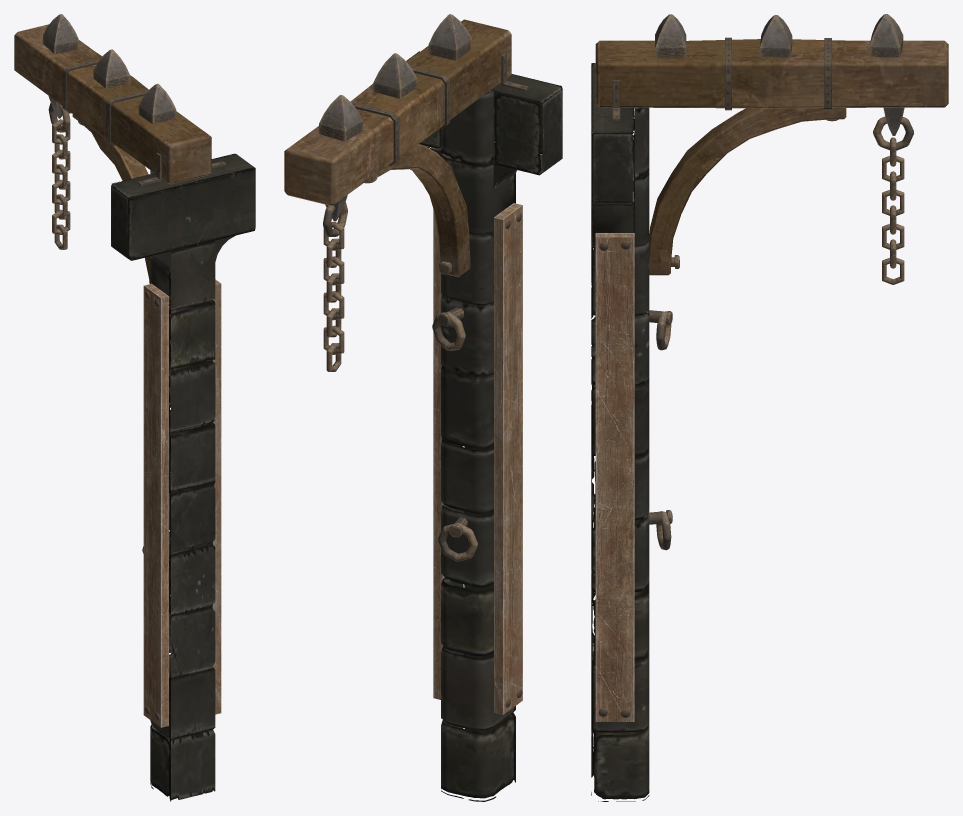
3 renders of one model, left to right at view 1: azimuth 30°, elevation 25°; view 2: azimuth 150°, elevation 25°; view 3: azimuth 270°, elevation 25°, orthographic. The views are drawn at different scales.
Visible parts, largest first — view 1: SM_Stone_Support_M_01_LOD0; view 2: SM_Stone_Support_M_01_LOD0; view 3: SM_Stone_Support_M_01_LOD0.
Boxes of the visible parts, <box> form: SM_Stone_Support_M_01_LOD0: <box>14,14,255,801</box>; SM_Stone_Support_M_01_LOD0: <box>284,14,562,801</box>; SM_Stone_Support_M_01_LOD0: <box>591,14,948,801</box>.
Size of the model in its own units: 1.3 by 6.71 by 2.8.
3 materials, 3 textured.
